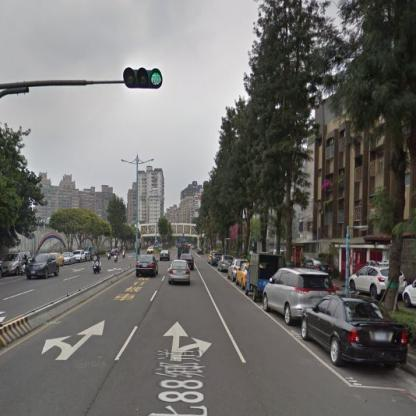Green Light: (120, 64, 163, 90)
